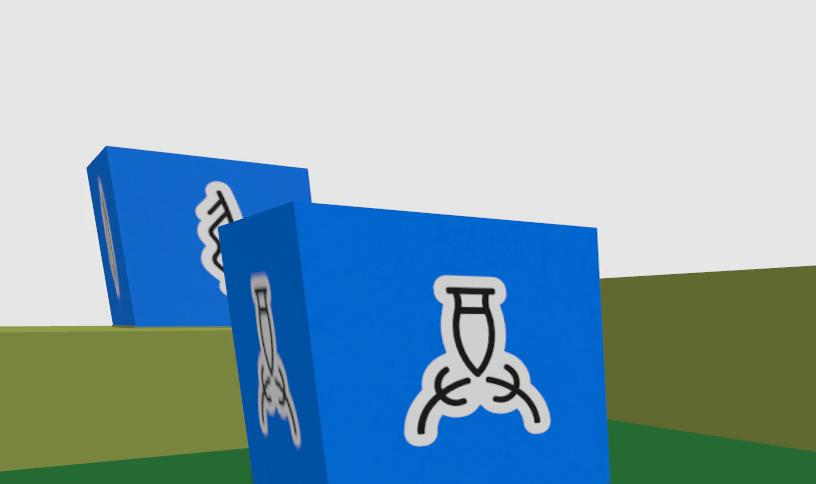KFS_REAL: (223, 202, 609, 484), (87, 146, 309, 325), (405, 276, 550, 445), (251, 273, 299, 448), (196, 181, 242, 293)
